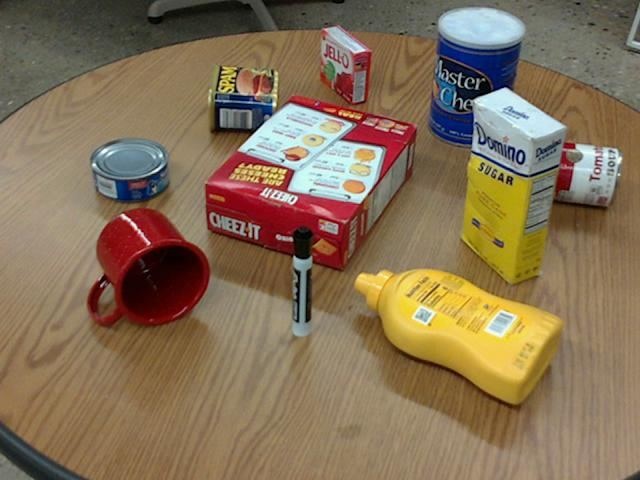cracker_box: (203, 96, 415, 269)
gelatin_box: (320, 25, 370, 102)
large_marker: (291, 225, 312, 336)
master_chef_can: (428, 7, 524, 146)
mug: (87, 208, 208, 325)
mustard_bottle: (354, 268, 560, 402)
potted_meat_can: (207, 63, 277, 129)
sugar_box: (462, 87, 564, 284)
tomato_soup_can: (518, 136, 618, 204)
tuna_fish_can: (89, 137, 167, 200)
